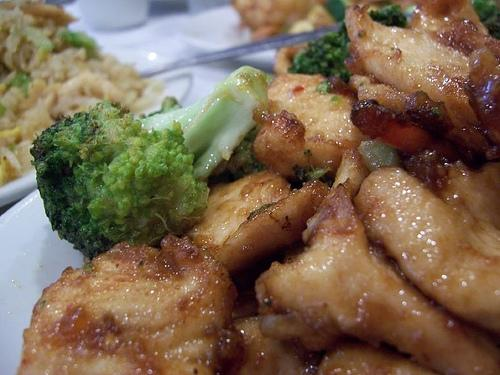broccoli: (30, 65, 270, 260), (291, 19, 353, 84)
